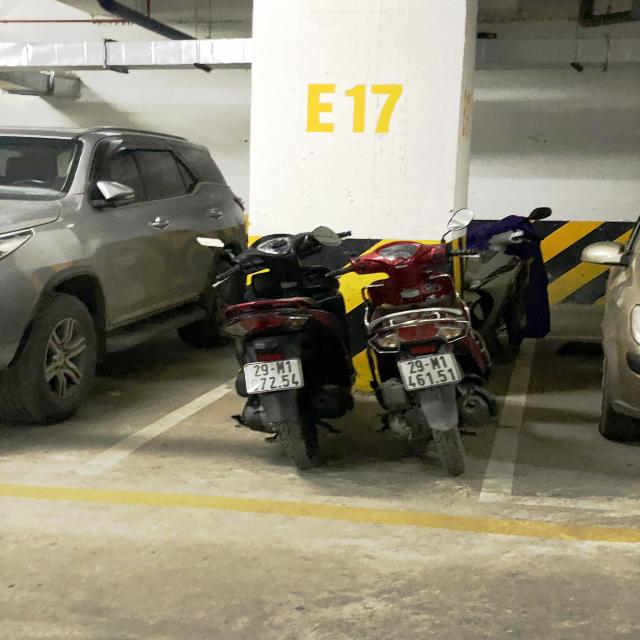license_plate: (396, 352, 464, 393), (243, 358, 307, 396)
